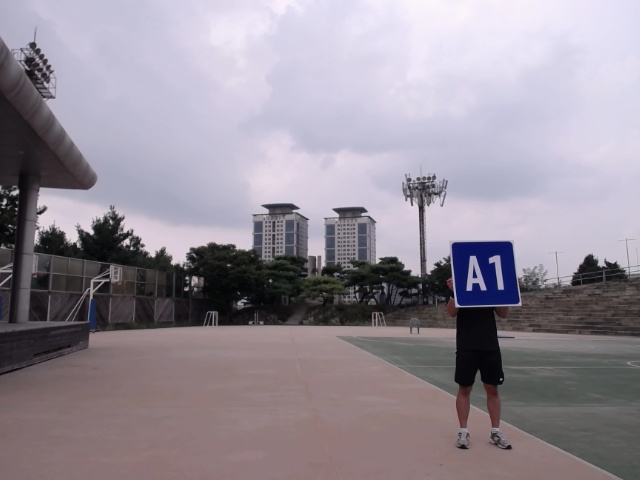delivery_a1: (451, 240, 521, 307)
